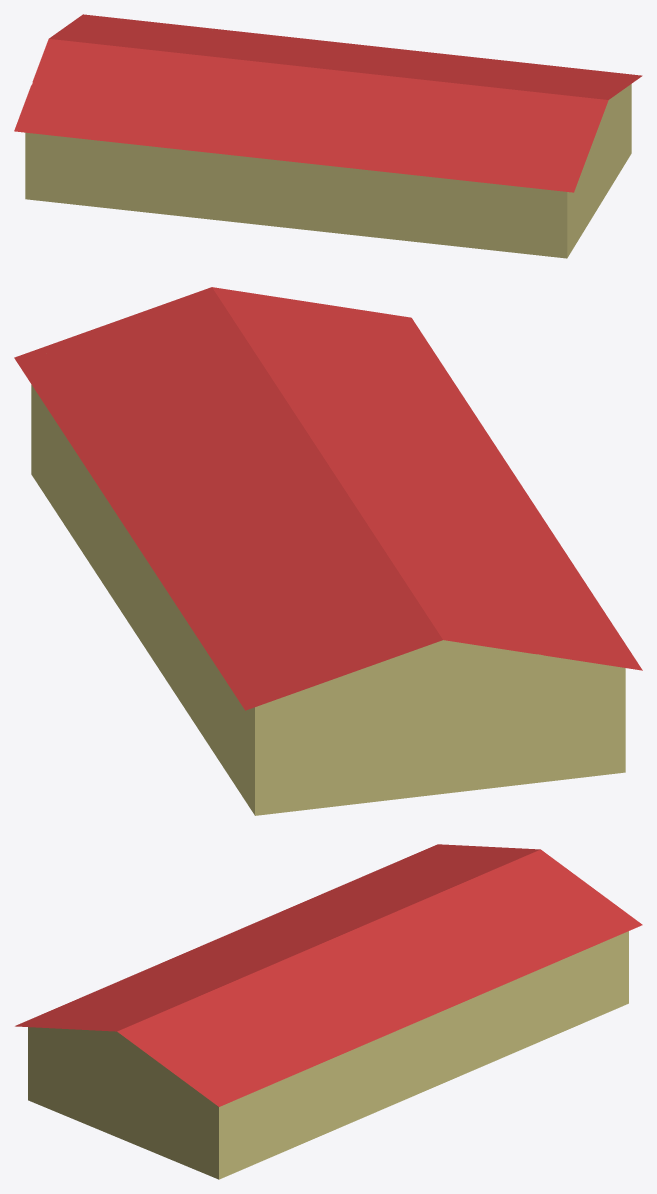
3 renders of one model, top to bottom at view 1: azimuth 30°, elevation 25°; view 2: azimuth 150°, elevation 25°; view 3: azimuth 270°, elevation 25°, orthographic. The views are drawn at different scales.
Size of the model in its own units: 64.53 by 64.15 by 12.55.
